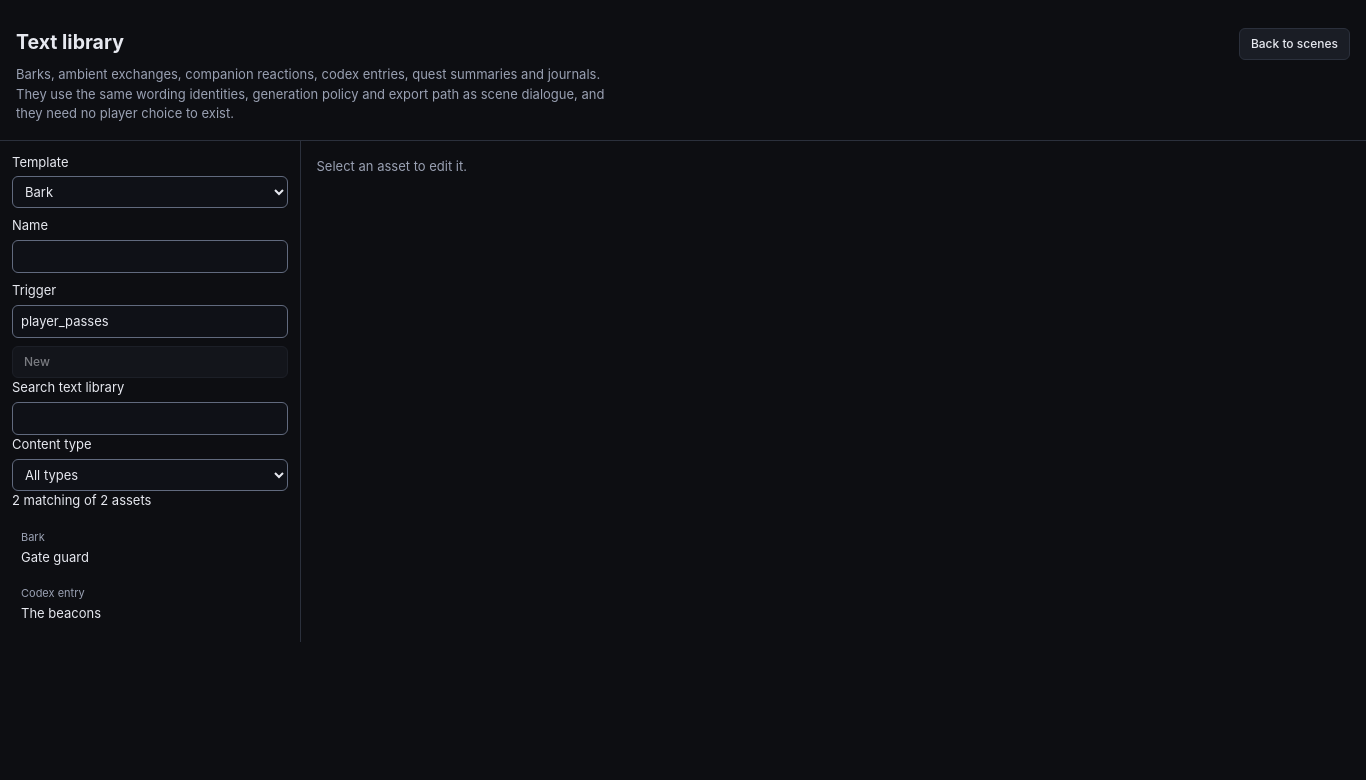
Scenario: the Text library › offers extra lines only for the kinds whose delivery is a sequence
Click the button "Bark Gate guard" at [55, 557], box [12,522,288,574]
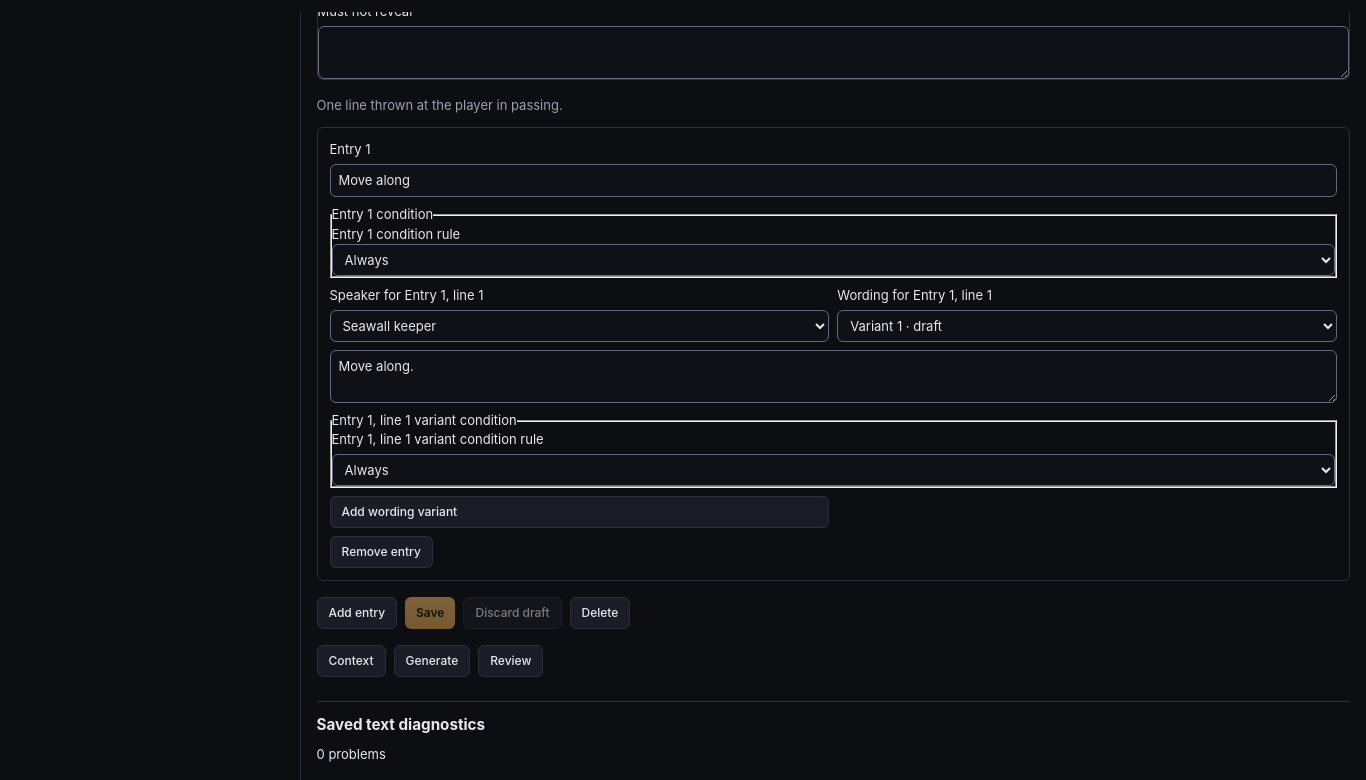
Result: the button "Add entry" is shown at [316,597,397,629]
